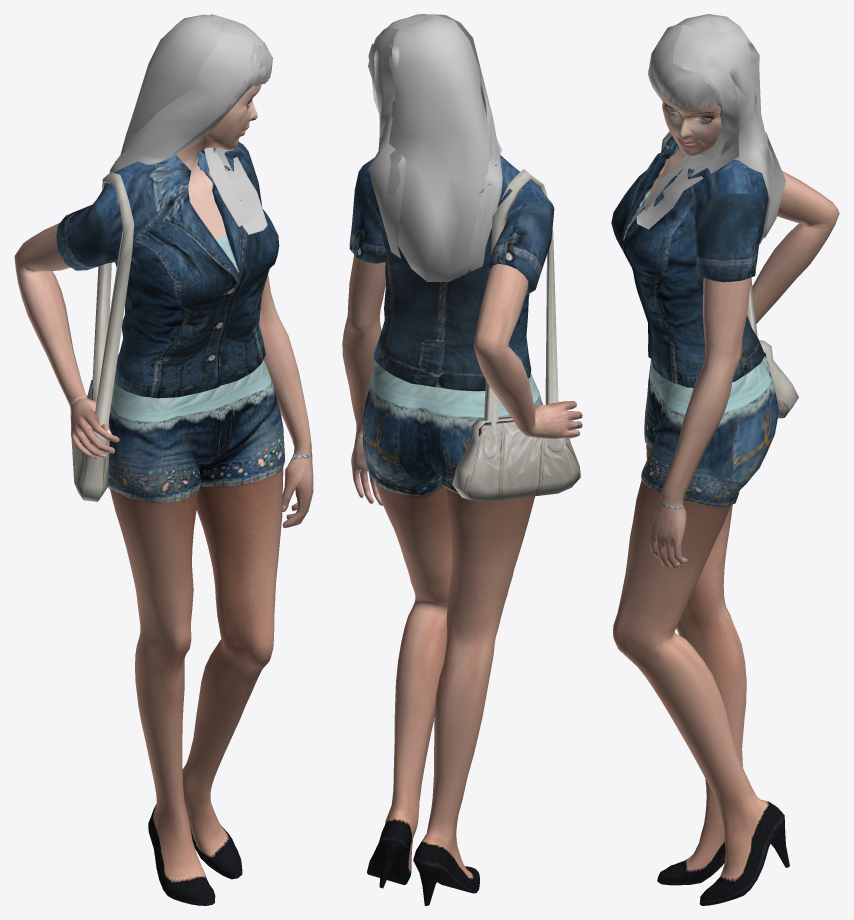
3 views of the same model, side by side, from view 1: azimuth 30°, elevation 25°; view 2: azimuth 150°, elevation 25°; view 3: azimuth 270°, elevation 25° (orthographic).
Visible parts, largest first — view 1: UA_f2_4; view 2: UA_f2_4; view 3: UA_f2_4.
Part boxes in pixels (box(x1,y1,x2,y2)): UA_f2_4: box(14, 14, 313, 905); UA_f2_4: box(342, 14, 582, 905); UA_f2_4: box(611, 14, 839, 905).
Bounding box in the file's own units: 48.57 × 174 × 41.24.
